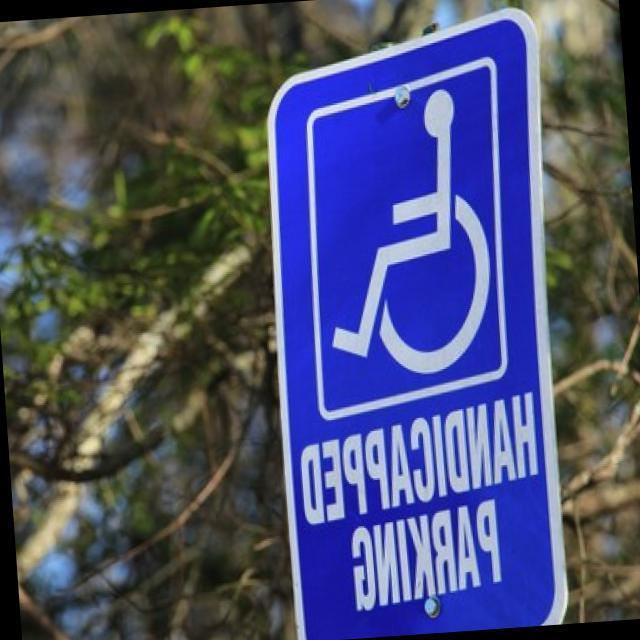symbol_of_access: (266, 8, 568, 637)
